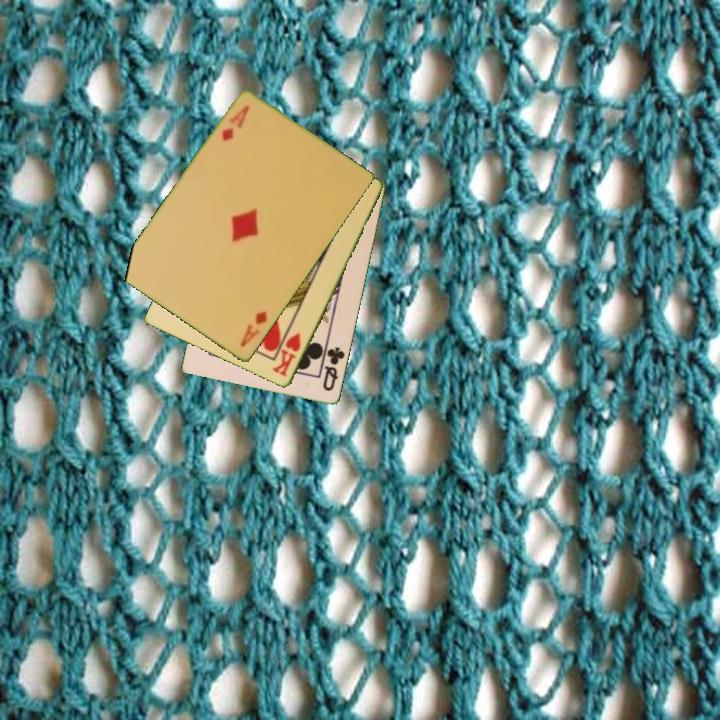Ad: (218, 102, 253, 144), (237, 307, 270, 351)
Kh: (269, 329, 304, 380)
Qc: (320, 344, 348, 394)
